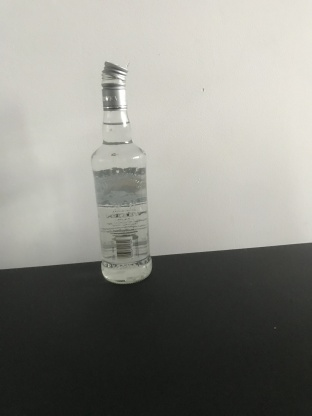nakretka: (99, 58, 129, 111)
